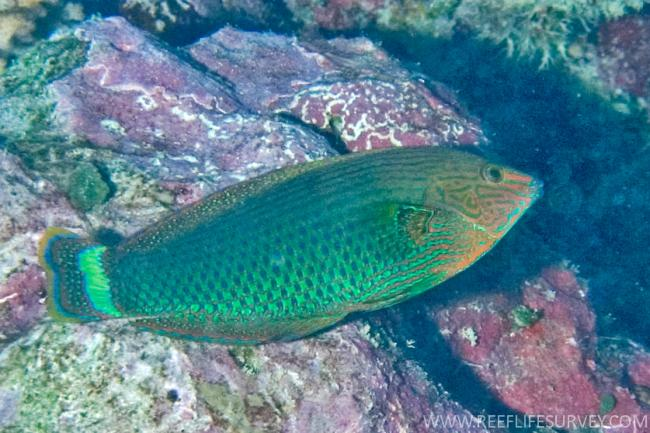fish: (37, 145, 547, 346)
